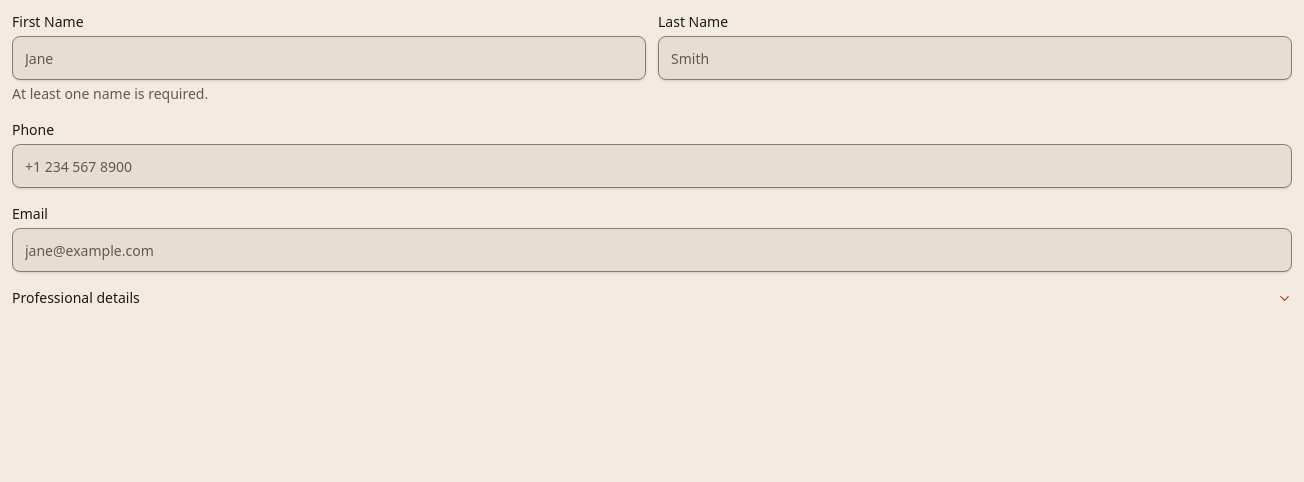
Scenario: VCardForm › shows professional fields when toggle is clicked
The width and height of the screenshot is (1304, 482).
Click the button "Professional details". click: (76, 298)
box: [12,288,1292,308]
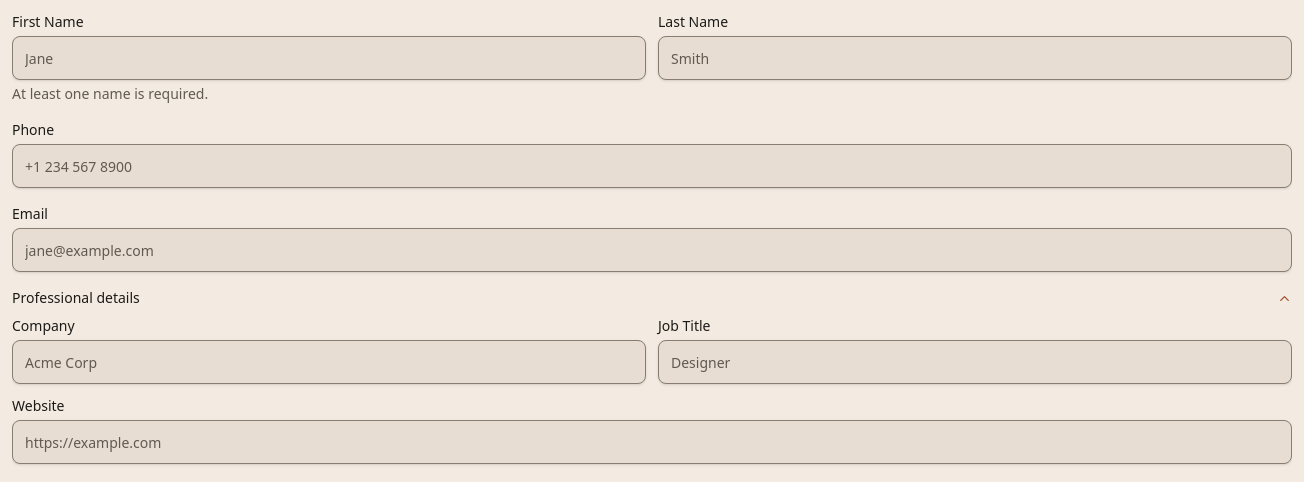
Expected: the field labelled "Company" is shown, [12,340,646,384]
Expected: the field labelled "Job Title" is shown, [658,340,1292,384]
Expected: the field labelled "Website" is shown, [12,420,1292,464]
